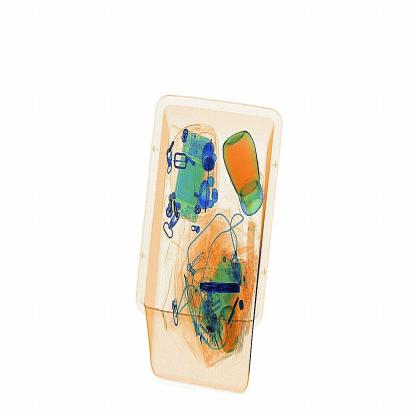scissors: (198, 279, 242, 295)
